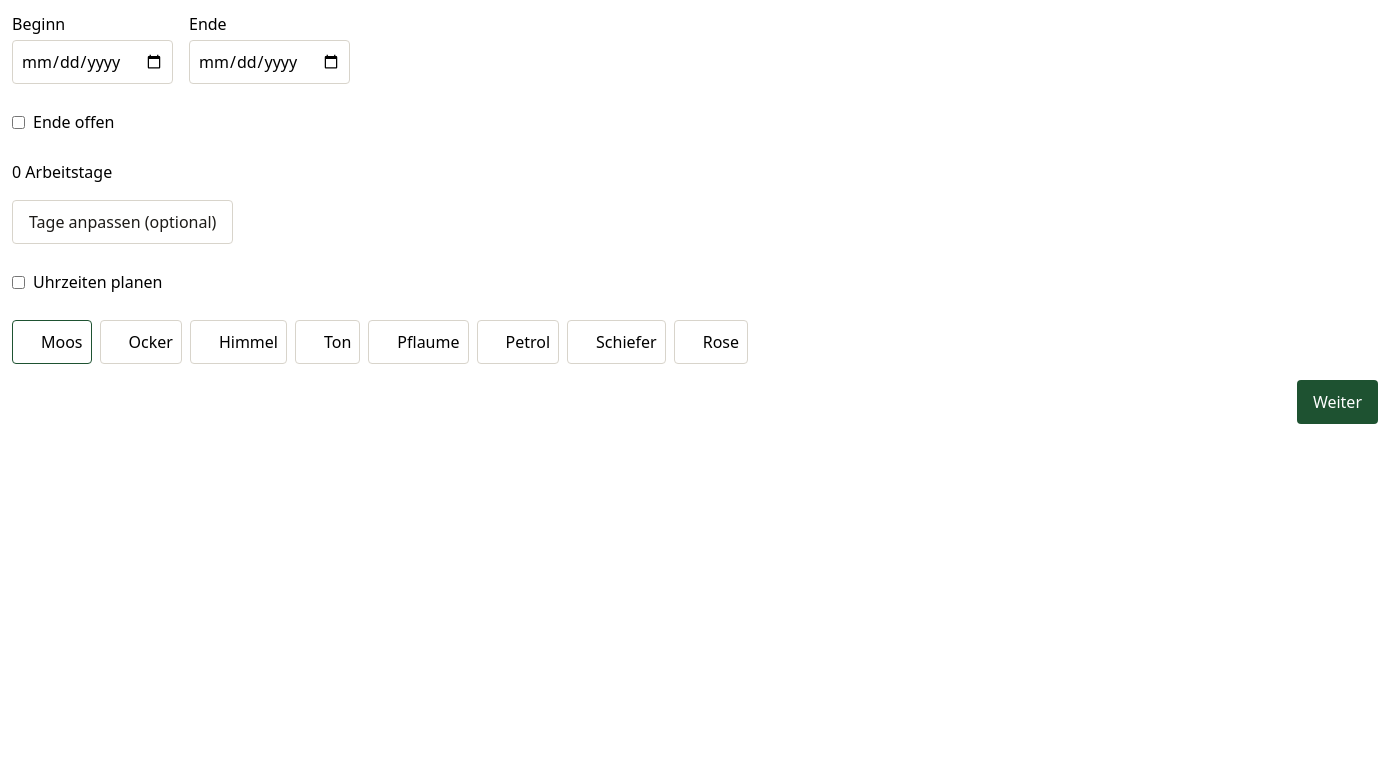
Test: StepPeriod › hebt die Zahl auf 11, wenn ein Samstag zugewaehlt wird
Type "2026-09-07" into the date field labelled "Beginn" at (92, 62), box [12,40,173,84]
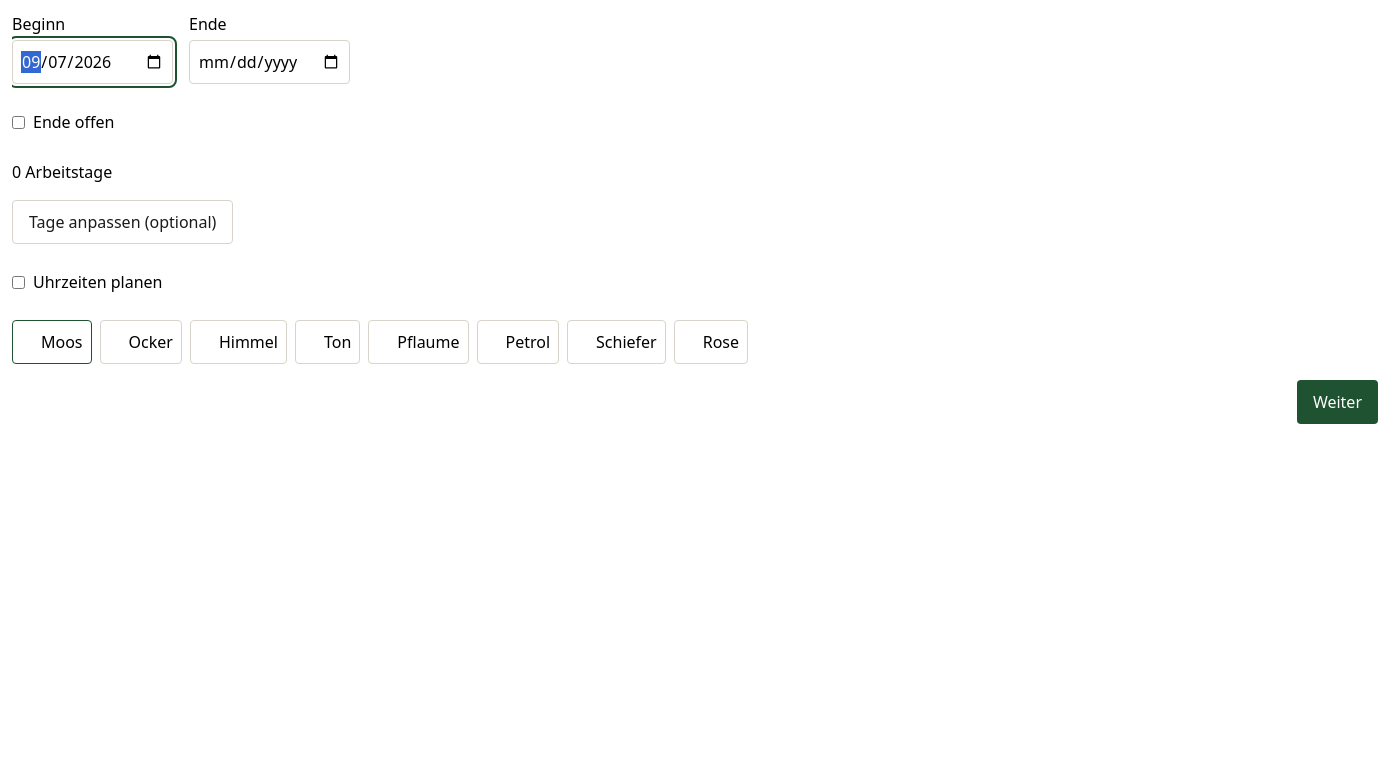
Type "2026-09-18" into the date field labelled "Ende" at (270, 62), box [189,40,350,84]
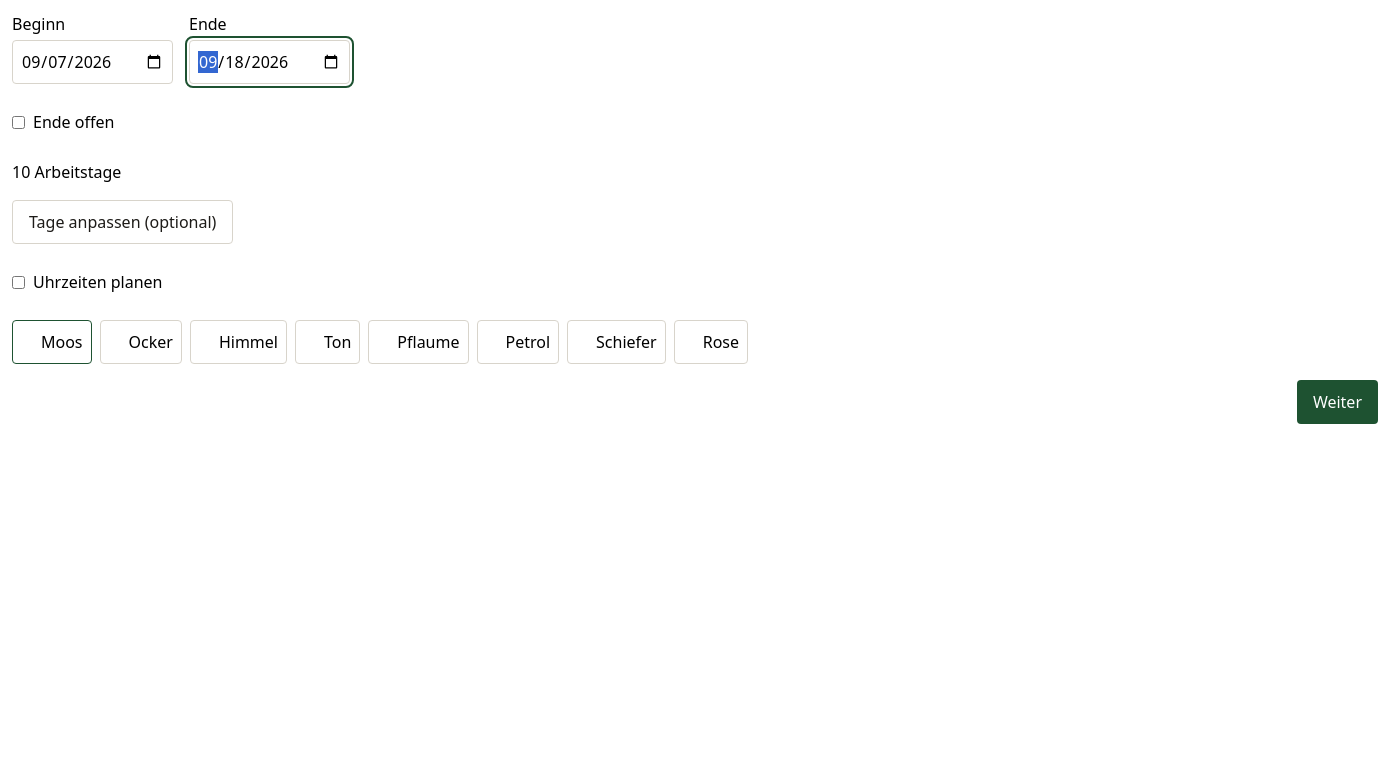
Click the button "Tage anpassen (optional)" at (123, 222), box [12,200,233,244]
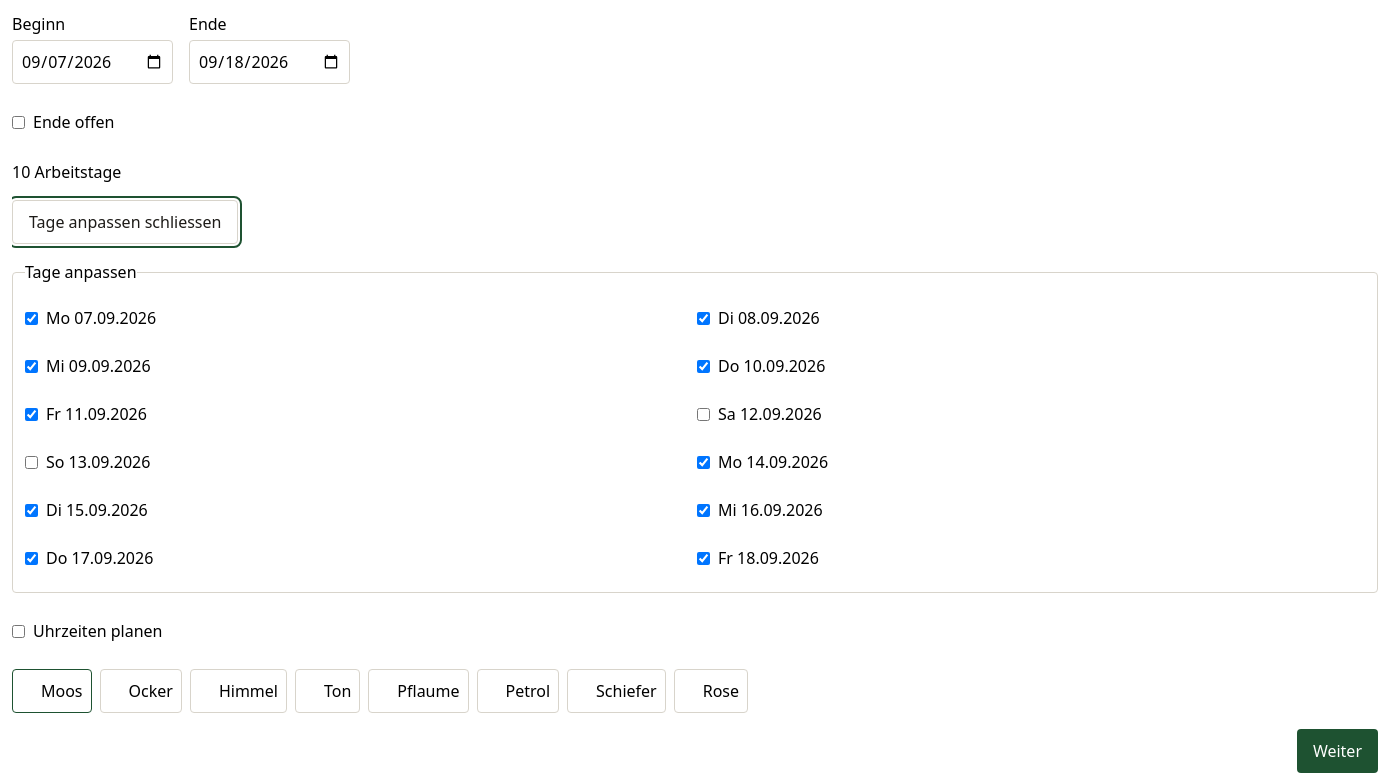
Expected: the checkbox labelled "Sa 12.09.2026" is not checked
Click the checkbox labelled "Sa 12.09.2026" at (704, 414), box [697,408,710,420]
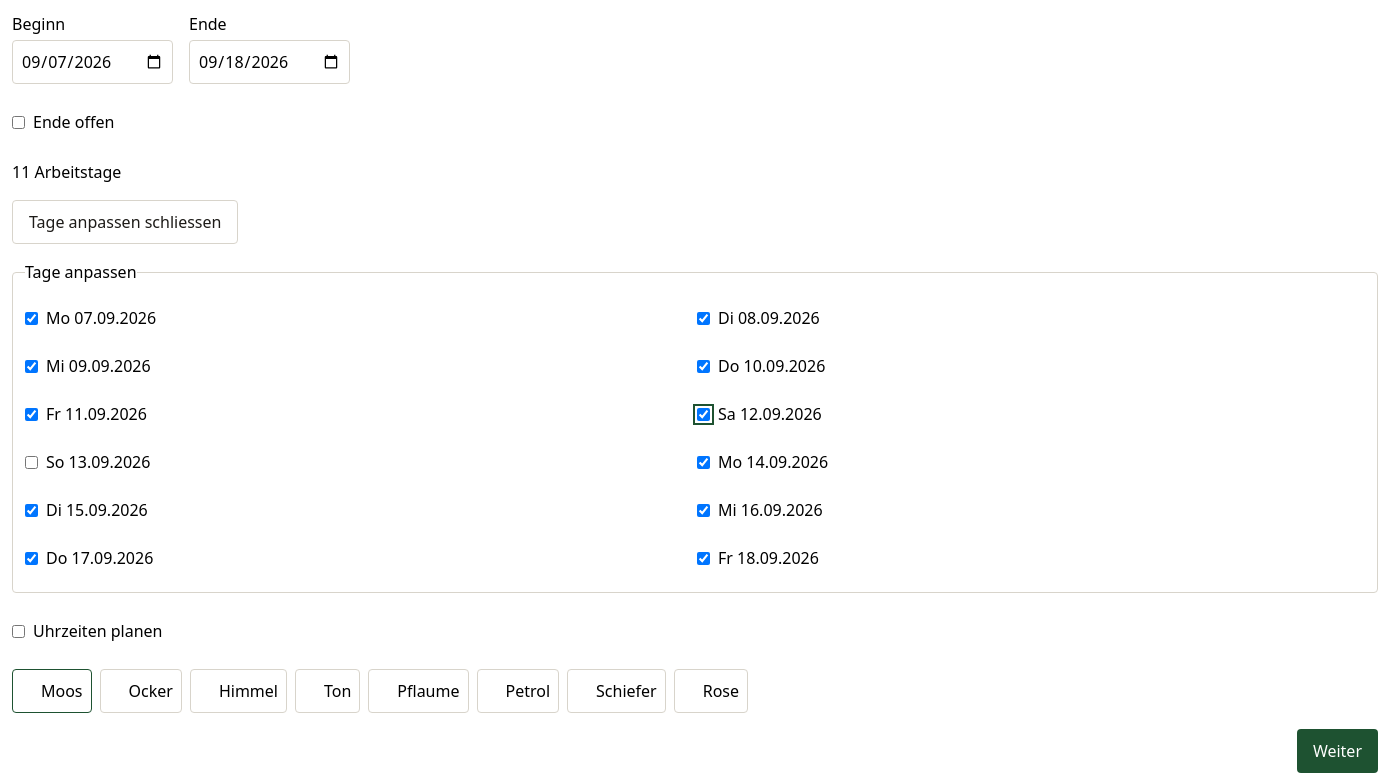
Expected: the text with test id "arbeitstage" reads "11 Arbeitstage", [12,161,121,183]
